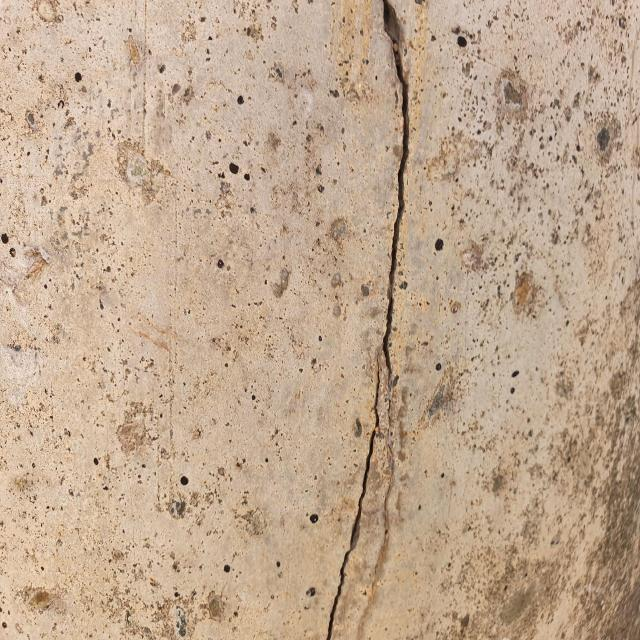SurfaceCrack: (291, 1, 452, 640)
